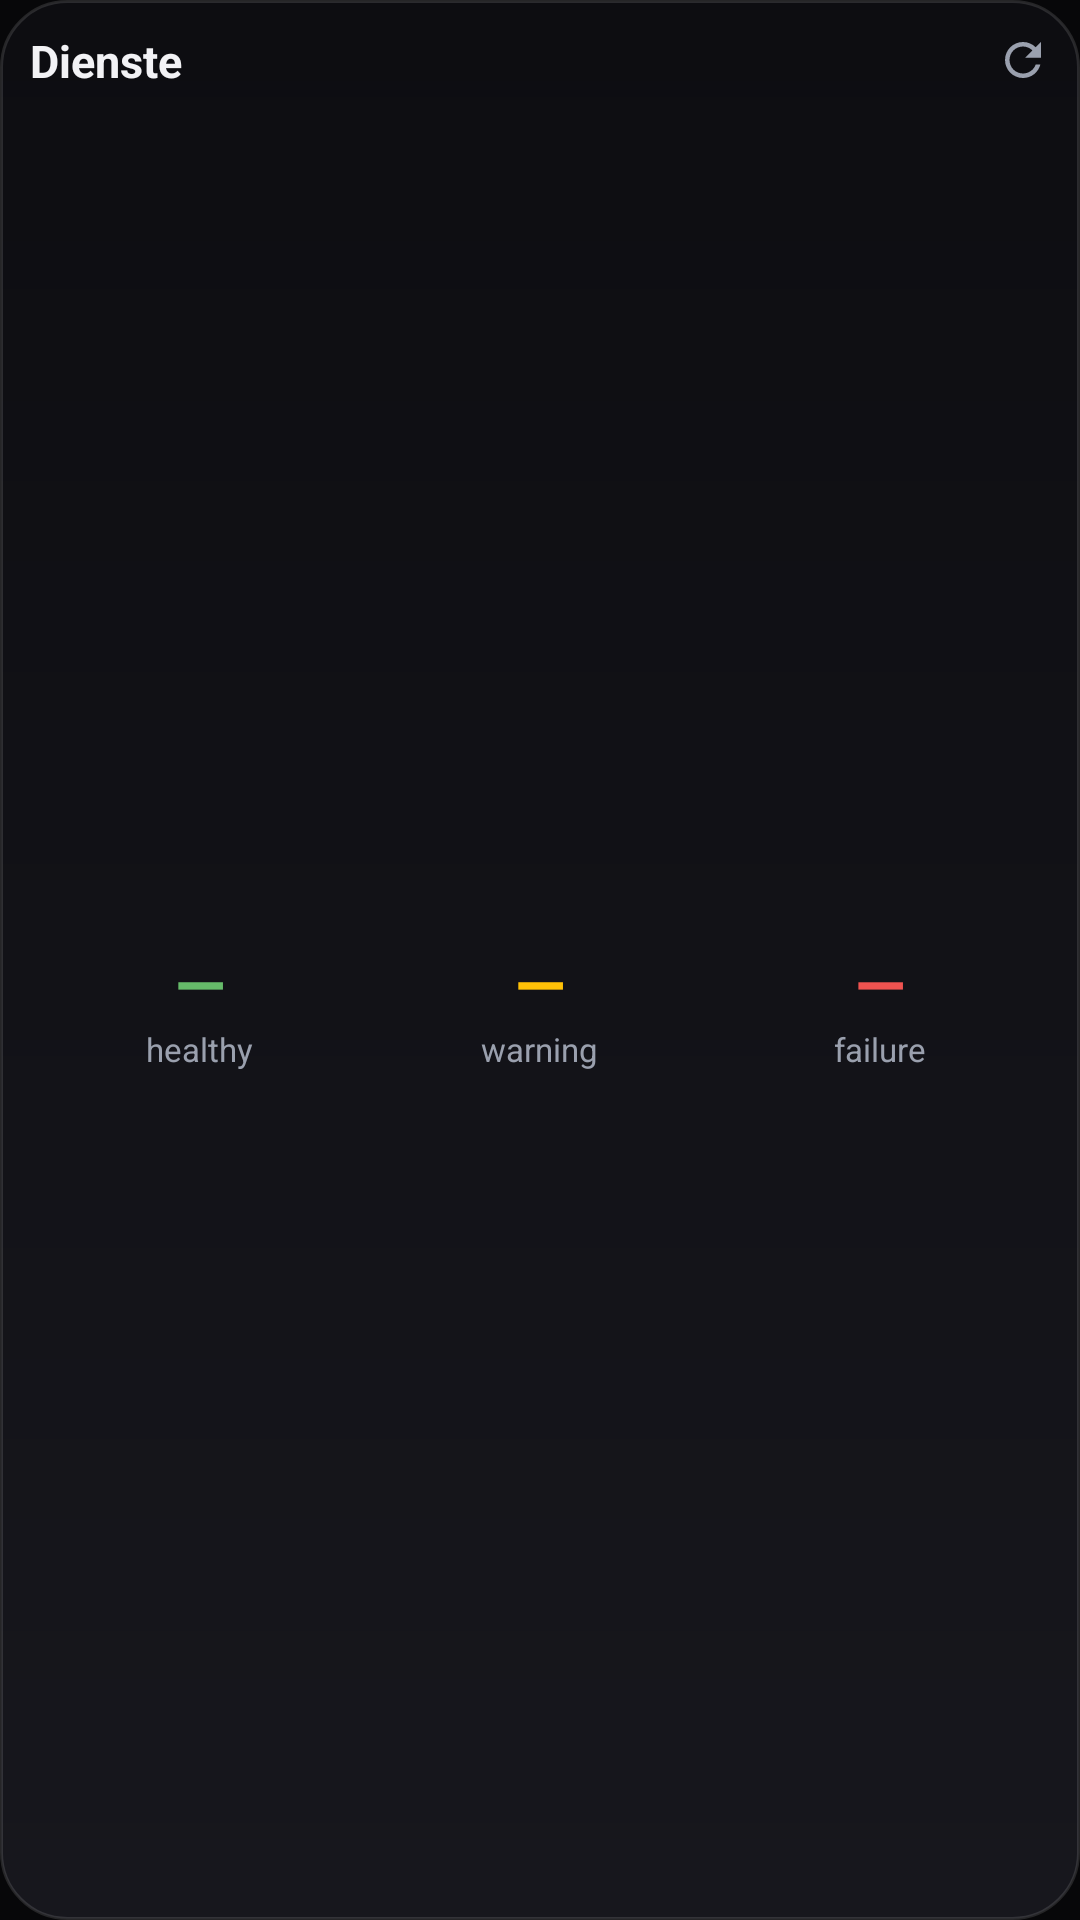

Icon bounding boxes for this 1080*1920 phone screenshot, format {"left": x1, "top": y1, "right": x2, "bottom": y2}:
Aktualisieren: {"left": 1005, "top": 42, "right": 1041, "bottom": 78}
